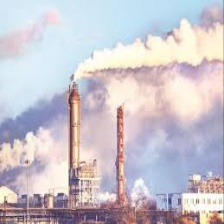smoke: (70, 13, 219, 86), (4, 110, 65, 184)
